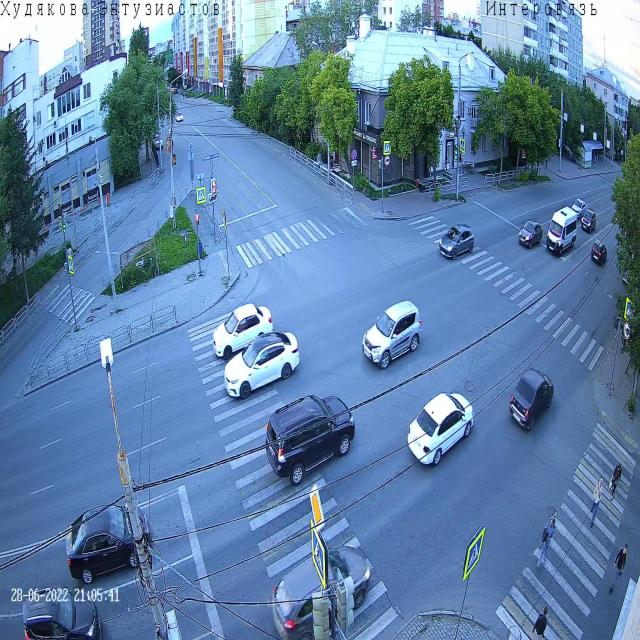car: (270, 544, 371, 640), (264, 392, 356, 487), (66, 500, 150, 585), (224, 330, 300, 400), (407, 391, 474, 468), (22, 582, 102, 640), (362, 298, 423, 371), (212, 302, 274, 362), (509, 366, 554, 431), (438, 222, 474, 260), (519, 219, 543, 249), (591, 238, 607, 268), (581, 208, 596, 234), (571, 197, 587, 220), (154, 134, 164, 150), (174, 111, 183, 122)
pedestrian: (608, 542, 628, 596), (536, 518, 556, 570), (590, 477, 603, 529), (532, 605, 548, 640), (609, 462, 622, 502), (316, 150, 322, 175), (545, 154, 548, 170), (594, 154, 597, 167)
shuttle_taxi: (546, 205, 578, 258)
